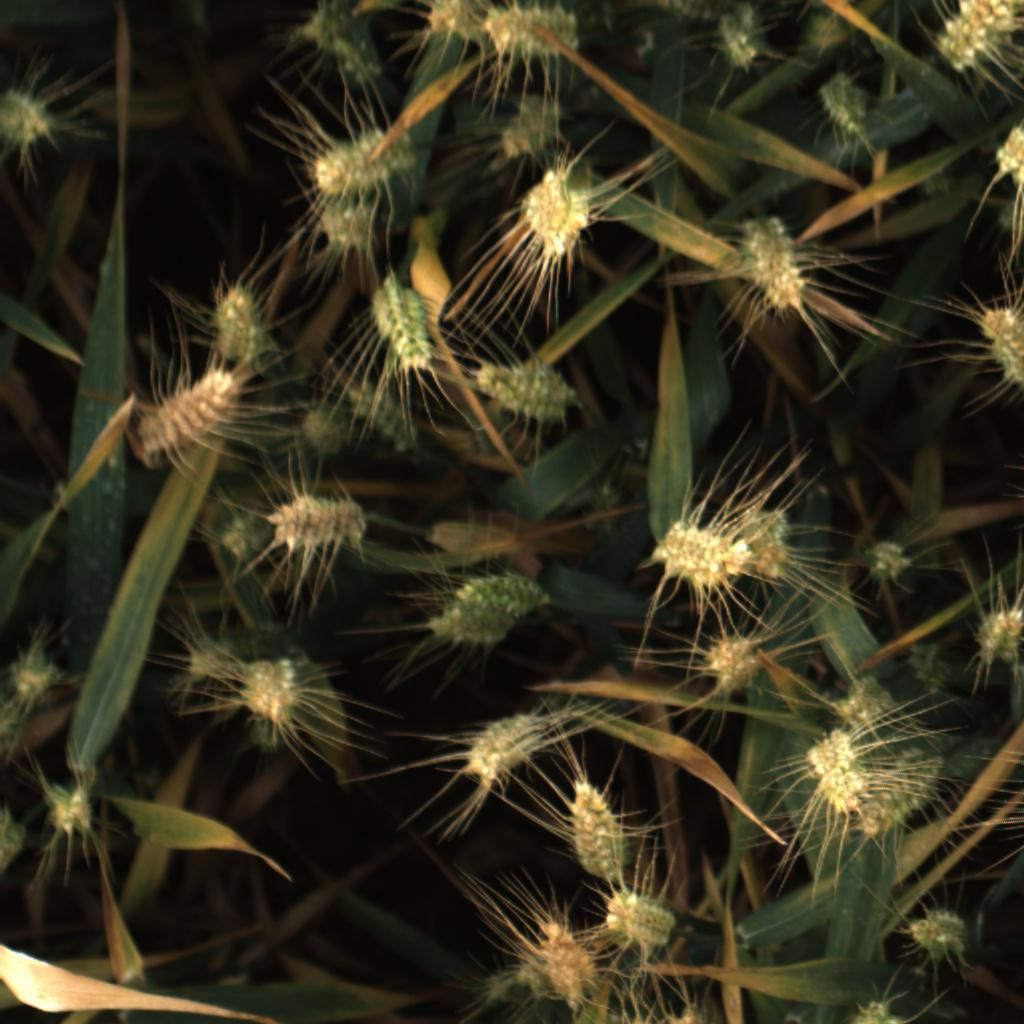0-0: (132, 355, 240, 470), (638, 506, 759, 597), (295, 119, 424, 192), (452, 692, 548, 786), (736, 207, 816, 318), (515, 168, 600, 268), (558, 773, 635, 877), (467, 359, 579, 429), (859, 757, 948, 841), (361, 280, 443, 371), (267, 486, 368, 558), (527, 909, 598, 1009), (483, 0, 593, 64), (300, 0, 381, 81), (340, 379, 423, 458), (208, 276, 278, 366), (937, 0, 1024, 72), (595, 882, 685, 951), (491, 89, 568, 166), (232, 653, 305, 733), (694, 628, 772, 698), (737, 501, 806, 578), (807, 727, 866, 816), (3, 630, 73, 705), (904, 900, 975, 969), (450, 567, 546, 616), (41, 775, 103, 849), (309, 192, 378, 258), (972, 303, 1024, 390), (174, 620, 238, 690), (814, 72, 877, 142), (417, 611, 514, 656), (967, 595, 1024, 671), (1, 80, 56, 156), (292, 397, 353, 464), (902, 634, 959, 703), (719, 0, 769, 78), (831, 669, 893, 729), (578, 480, 636, 542), (213, 503, 273, 561), (858, 534, 919, 587), (417, 0, 482, 44), (994, 122, 1024, 203)
